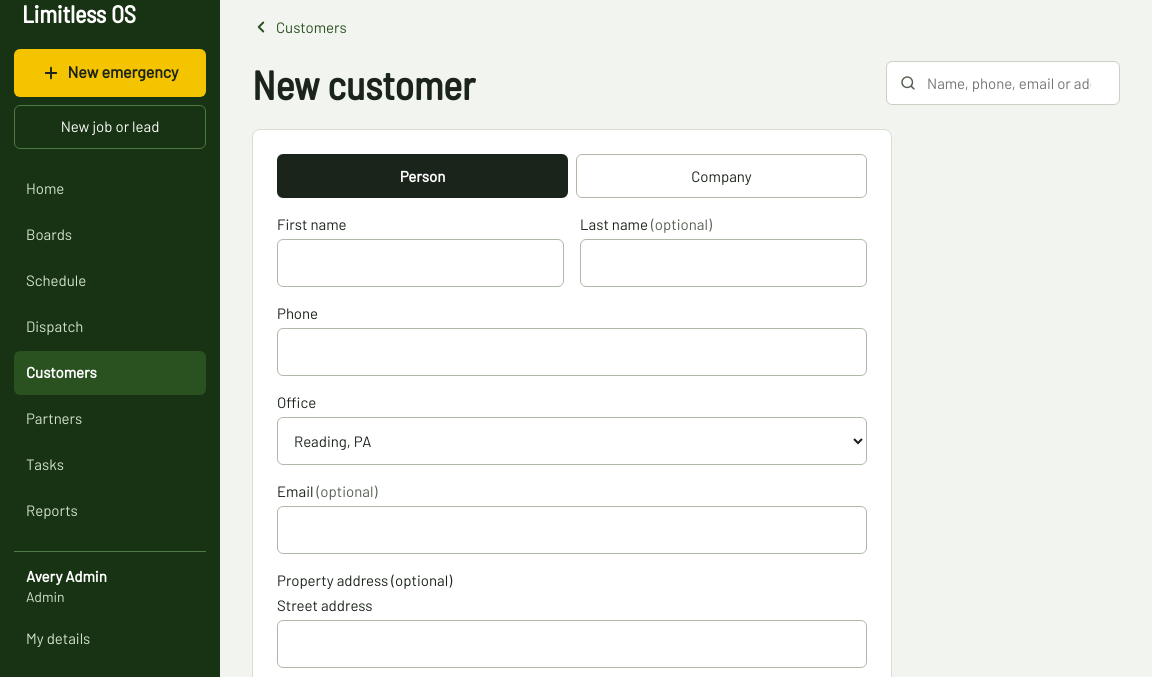
Test: New customer › asks which office when the person is in several
Select "American Fork, UT" in the dropdown labelled "Office" at (572, 441), box [277,417,867,465]
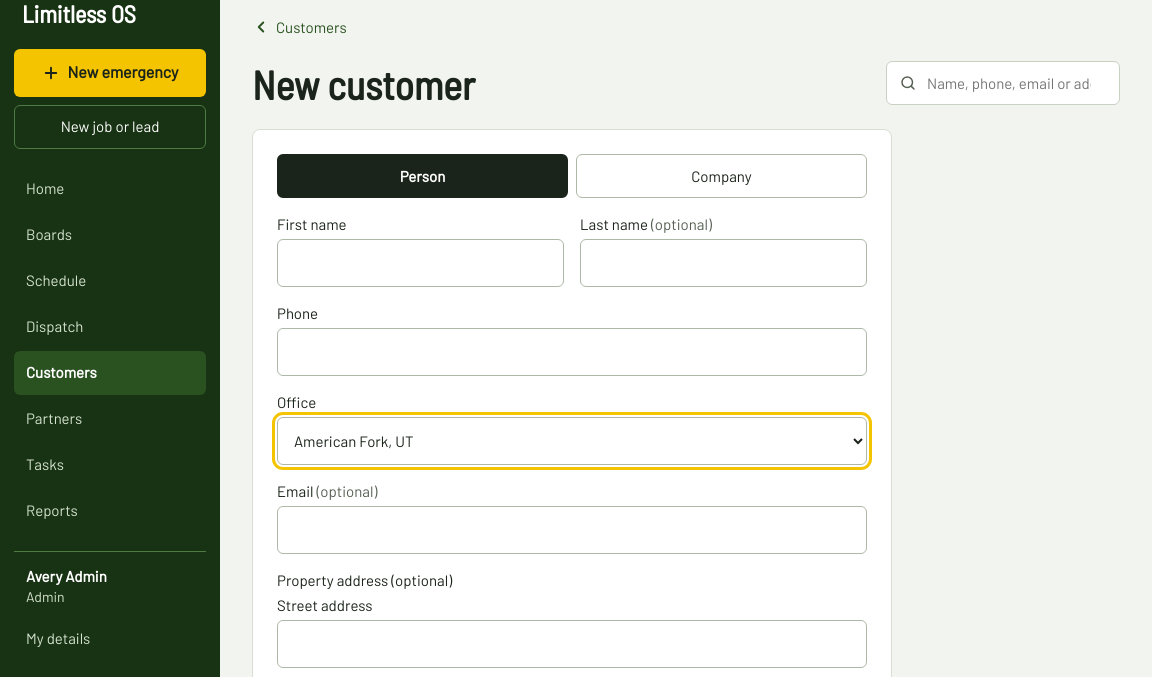
Type "Noor" into the field labelled "First name".
click(420, 263); type("Noor")  # box [277,239,564,287]
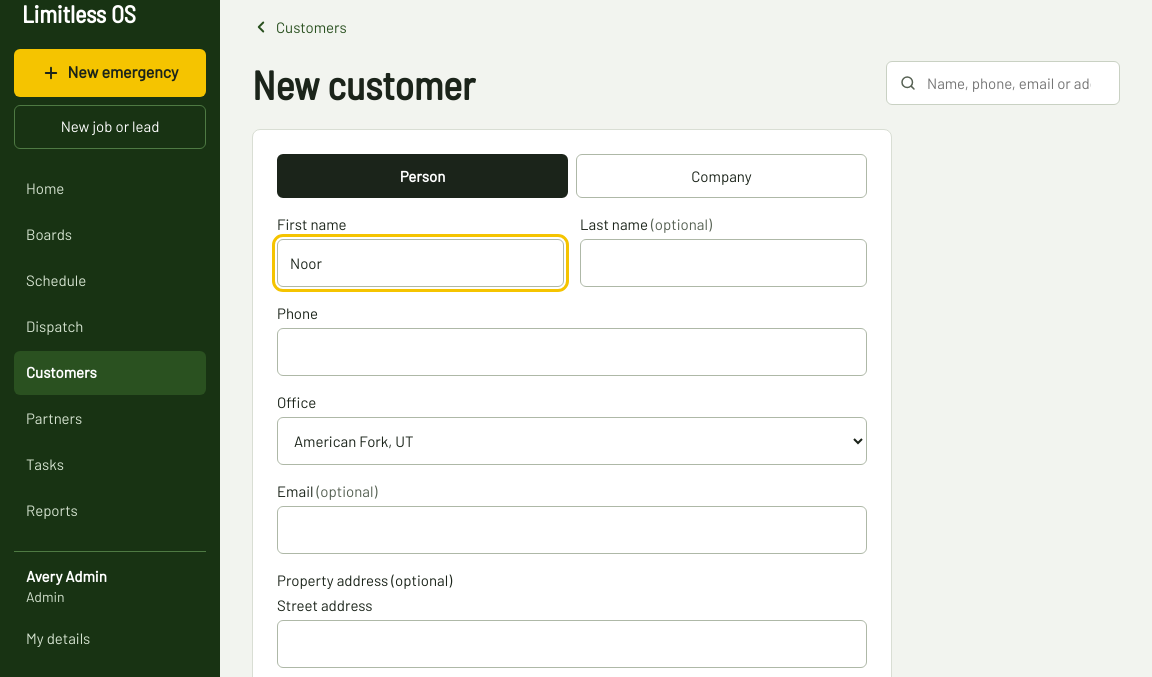
Type "801-555-0199" into the field labelled "Phone".
click(572, 352); type("801-555-0199")  # box [277,328,867,376]
(page scrolled)
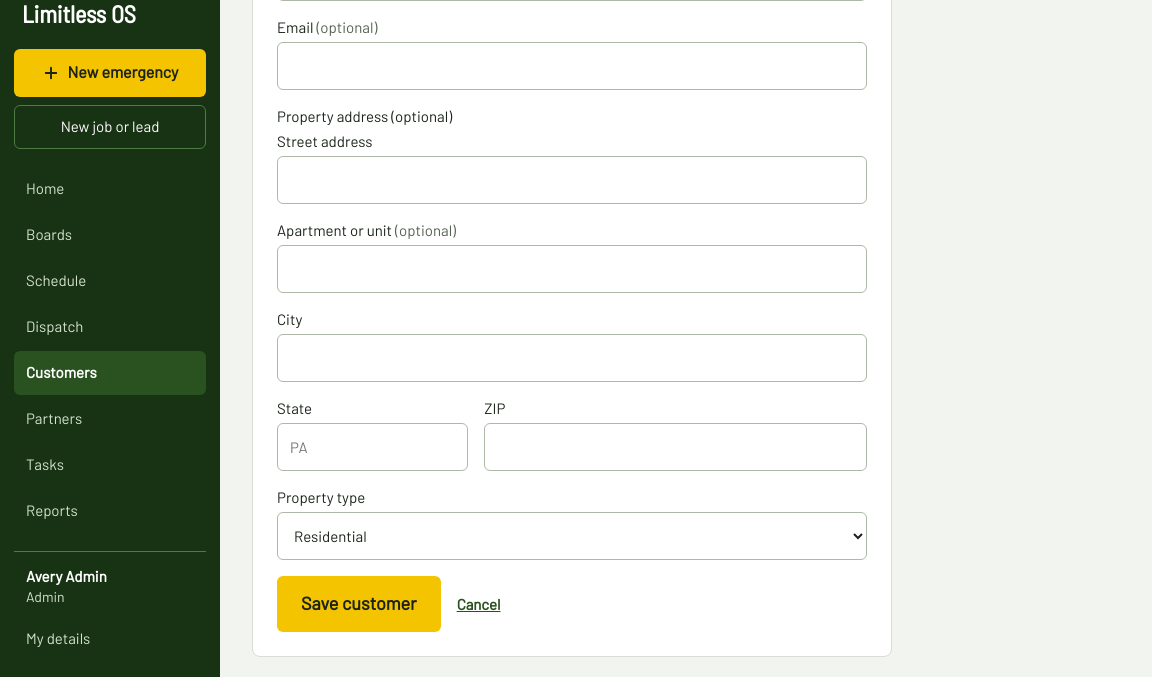
Click the button "Save customer".
click(359, 604)  # box [277,576,441,632]
(page scrolled)
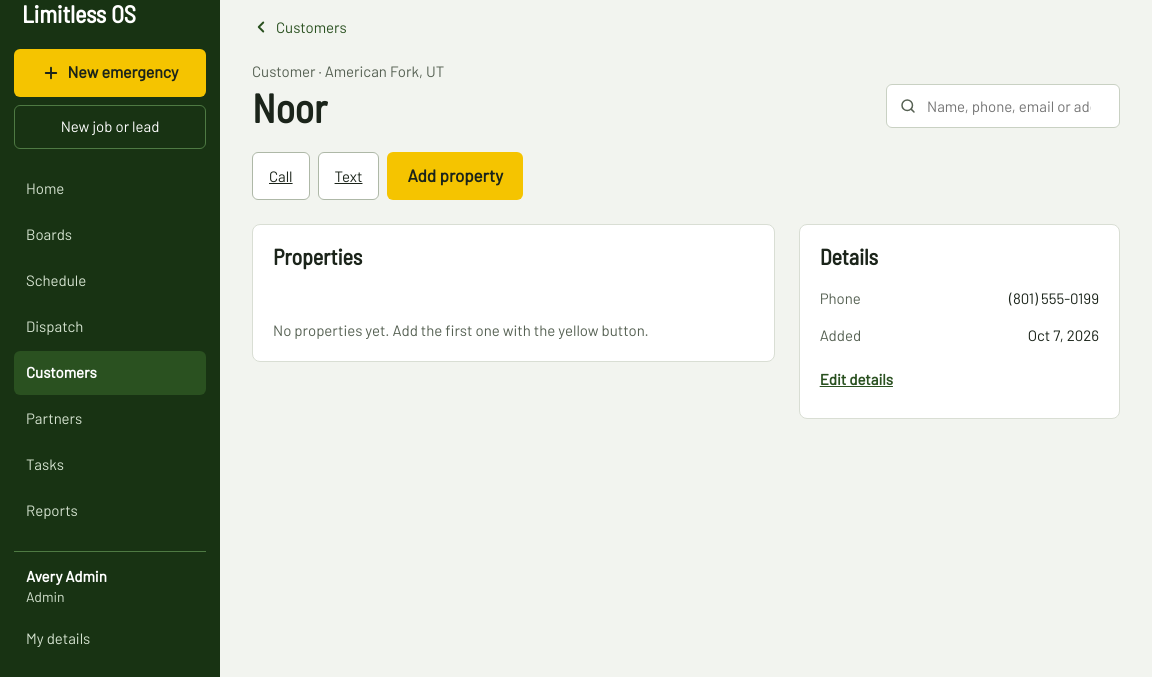
Expected: the heading "Noor" is shown, [252,83,327,131]
